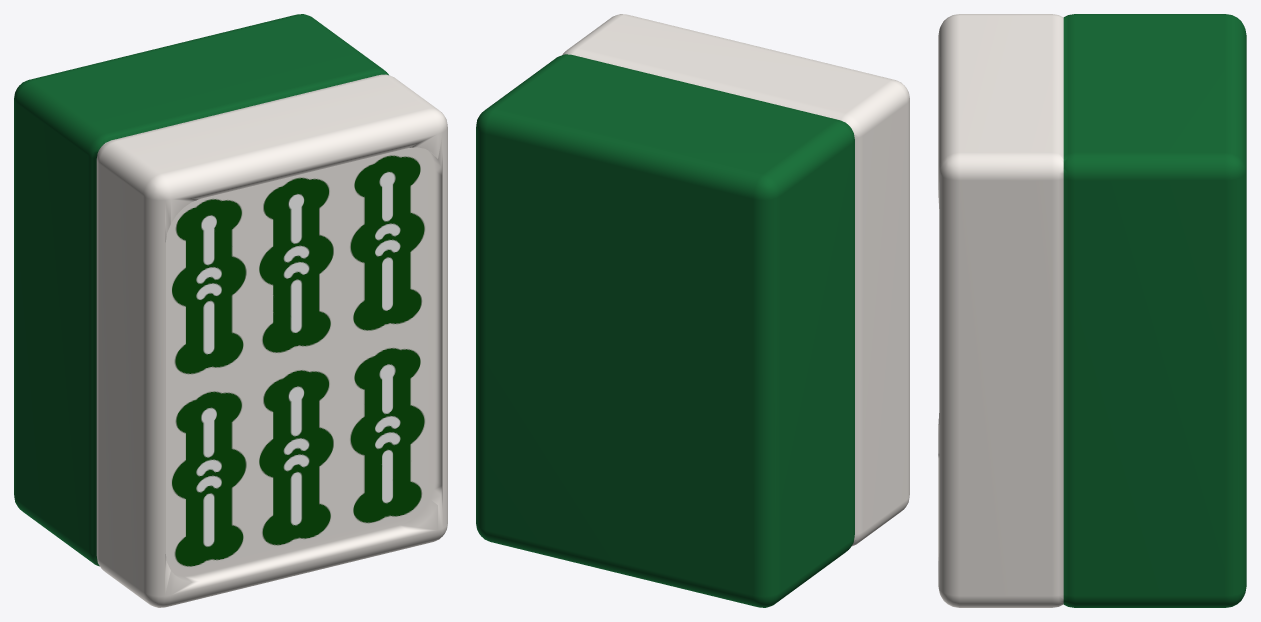
Rendered from sou6-2n20g89h.glb.
3 views of the same model, side by side, from view 1: azimuth 30°, elevation 25°; view 2: azimuth 150°, elevation 25°; view 3: azimuth 270°, elevation 25° (orthographic). The views are drawn at different scales.
Parts seen in each view (by area): view 1: TileBody, FacePanel; view 2: TileBody; view 3: TileBody.
Part boxes in pixels (<box>): TileBody: <box>14,14,447,607</box>; FacePanel: <box>165,148,428,569</box>; TileBody: <box>476,14,909,607</box>; TileBody: <box>938,14,1246,607</box>.
Size of the model in its own units: 19 by 26 by 16.
Materials: 3 (1 with a texture image).
